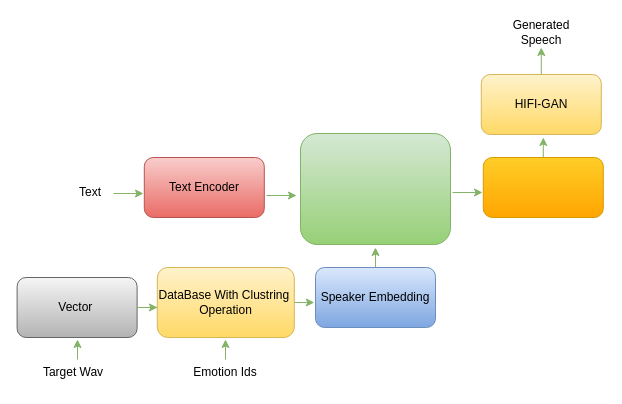
The diagram is 622 pixels wide and 404 high, and some of its shapes have lost their labels. The centre of each missing label's shape, as x and y in pixels:
"Decoder" belongs at point 542,187.
"MAS" belongs at point 375,188.
